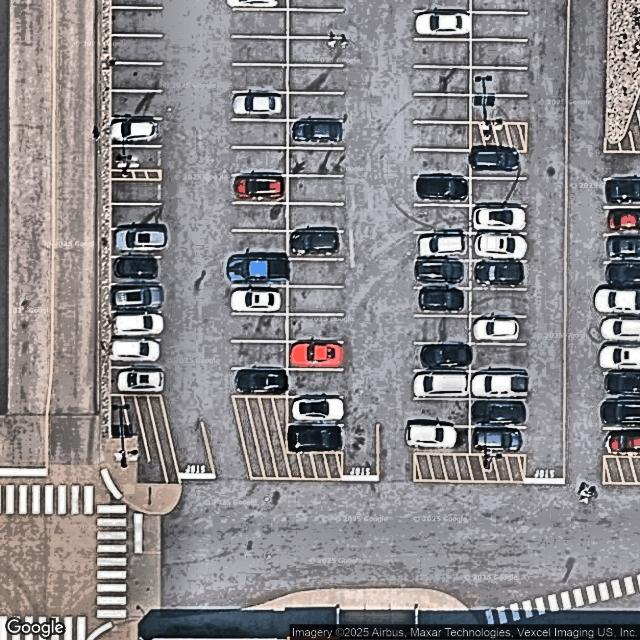car: (226, 255, 293, 283), (415, 173, 468, 203), (471, 372, 529, 398), (289, 426, 344, 452), (412, 259, 467, 285), (113, 228, 171, 252), (475, 234, 528, 260), (474, 426, 523, 454), (234, 370, 288, 395), (472, 400, 526, 425), (595, 285, 640, 315), (474, 260, 524, 286), (289, 342, 343, 366), (418, 286, 466, 313), (290, 232, 340, 257), (230, 290, 282, 314), (468, 148, 520, 172), (416, 13, 470, 36), (422, 343, 473, 367), (413, 376, 471, 397), (292, 398, 344, 421), (291, 121, 345, 143), (471, 317, 520, 341), (232, 177, 283, 200), (112, 255, 160, 279), (116, 370, 166, 393), (407, 425, 457, 448), (474, 207, 526, 229), (418, 234, 465, 258), (112, 287, 163, 309), (113, 313, 164, 335), (597, 344, 640, 370), (233, 93, 283, 115), (598, 400, 640, 426), (112, 341, 162, 362), (604, 371, 640, 398), (113, 120, 159, 141), (600, 317, 640, 341), (605, 429, 640, 455), (604, 179, 640, 202), (604, 237, 640, 260), (607, 208, 640, 233), (605, 263, 640, 285)
lot_boundary: (109, 0, 639, 486)
objects: (234, 396, 343, 480), (412, 454, 527, 482), (470, 123, 527, 151), (603, 456, 639, 484), (112, 170, 161, 181)
stall: (232, 63, 288, 93), (232, 175, 288, 205), (232, 146, 288, 176), (231, 92, 287, 122), (232, 9, 288, 39), (232, 37, 288, 67), (287, 64, 343, 94), (288, 36, 344, 66), (231, 287, 287, 317), (288, 286, 344, 316), (288, 258, 344, 288), (288, 230, 344, 260), (287, 203, 343, 233), (289, 120, 345, 150), (288, 92, 344, 122), (415, 66, 471, 96), (288, 423, 344, 453), (287, 396, 343, 426), (290, 369, 346, 399), (286, 314, 342, 344), (232, 259, 288, 288), (232, 231, 288, 260), (232, 202, 288, 231), (232, 119, 288, 148), (288, 9, 344, 38), (232, 369, 288, 398), (232, 341, 288, 370), (232, 314, 288, 343), (288, 175, 344, 204), (288, 147, 344, 176), (414, 94, 470, 123), (413, 122, 471, 150), (413, 232, 471, 260), (413, 177, 471, 205), (413, 12, 471, 40), (413, 344, 471, 372), (413, 260, 471, 288), (471, 288, 529, 316), (469, 316, 527, 344), (469, 344, 527, 372), (469, 400, 527, 428), (471, 66, 529, 94), (413, 150, 470, 178), (413, 206, 470, 234), (414, 38, 471, 66), (413, 399, 470, 427), (413, 372, 470, 400), (414, 315, 471, 343), (413, 288, 470, 316), (471, 150, 528, 178), (470, 179, 527, 207), (470, 206, 527, 234), (471, 234, 528, 262), (471, 261, 528, 289), (470, 372, 527, 400), (470, 426, 527, 454), (413, 426, 470, 454), (472, 12, 529, 40), (471, 39, 528, 67), (472, 94, 529, 122), (111, 7, 163, 35), (110, 340, 162, 368), (111, 312, 163, 340), (111, 36, 163, 64), (288, 344, 344, 370), (111, 367, 162, 395), (111, 286, 162, 314), (110, 257, 161, 285), (111, 230, 162, 258), (110, 118, 161, 146), (112, 90, 163, 118), (112, 62, 163, 90), (112, 204, 161, 230), (111, 145, 161, 170), (603, 208, 640, 236), (603, 261, 640, 289), (603, 288, 640, 316), (603, 314, 640, 342), (603, 343, 640, 371), (603, 372, 640, 400), (603, 400, 640, 428), (603, 428, 640, 456), (603, 235, 640, 263), (603, 152, 640, 180), (112, 183, 160, 204), (604, 179, 640, 207)
